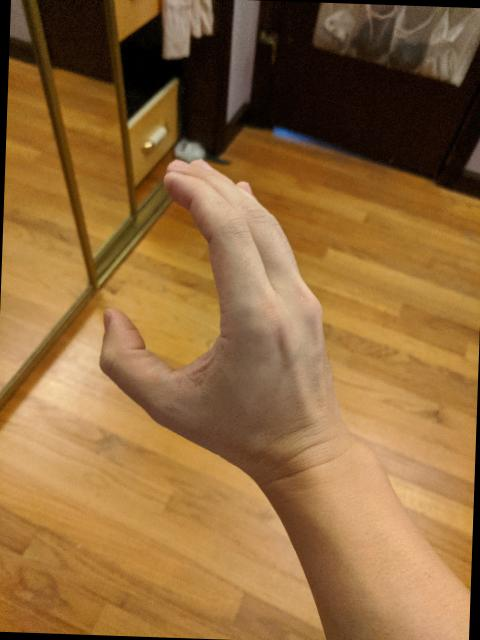C: (89, 150, 367, 483)
